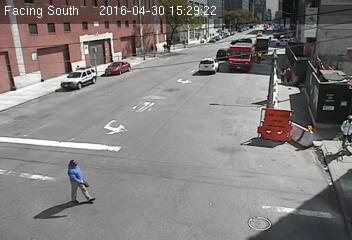neg: (204, 122, 233, 161), (7, 2, 35, 40), (262, 118, 281, 143), (91, 13, 109, 36), (115, 103, 128, 122), (221, 24, 234, 41), (200, 78, 212, 94), (150, 93, 157, 103)
pos: (57, 156, 92, 202), (329, 109, 351, 159), (275, 66, 290, 85), (282, 66, 296, 84), (161, 42, 166, 50)
